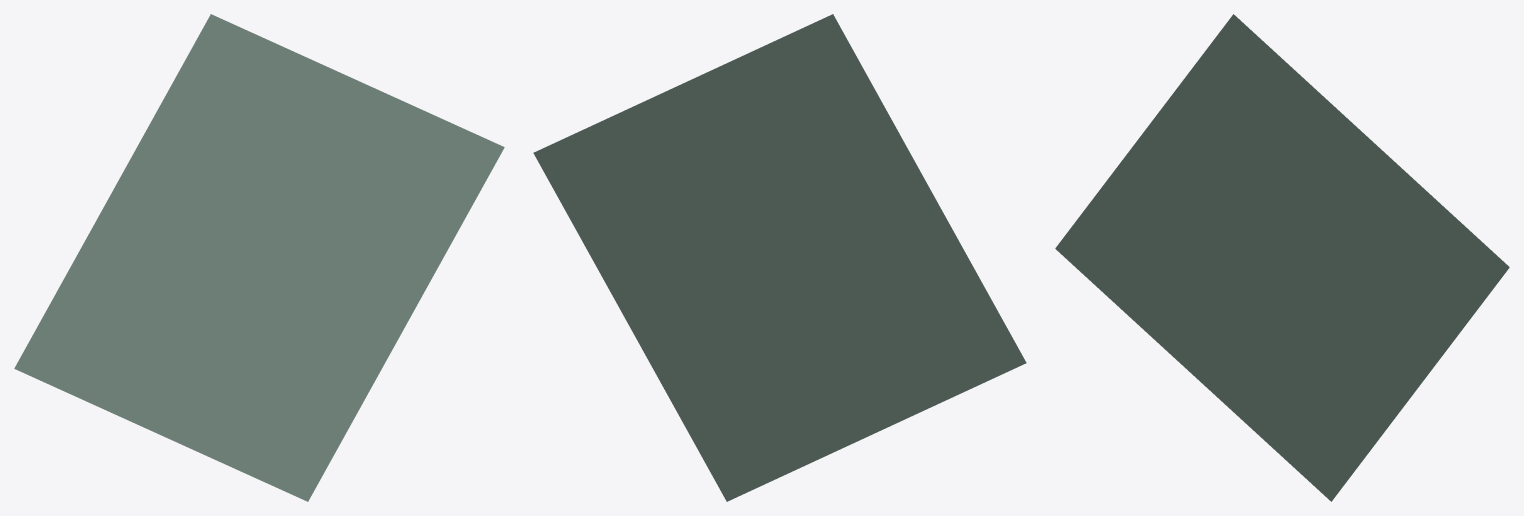
Rendered from 126Bottom.glb.
3 views of the same model, side by side, from view 1: azimuth 30°, elevation 25°; view 2: azimuth 150°, elevation 25°; view 3: azimuth 330°, elevation 25° (orthographic). The views are drawn at different scales.
Bounding box in the file's own units: 304 × 303 × 5.71.
